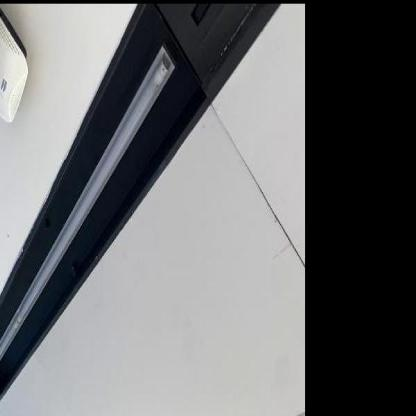light_off: (0, 35, 177, 386)
